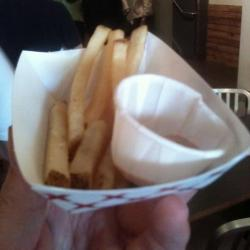fries: (55, 40, 124, 195)
